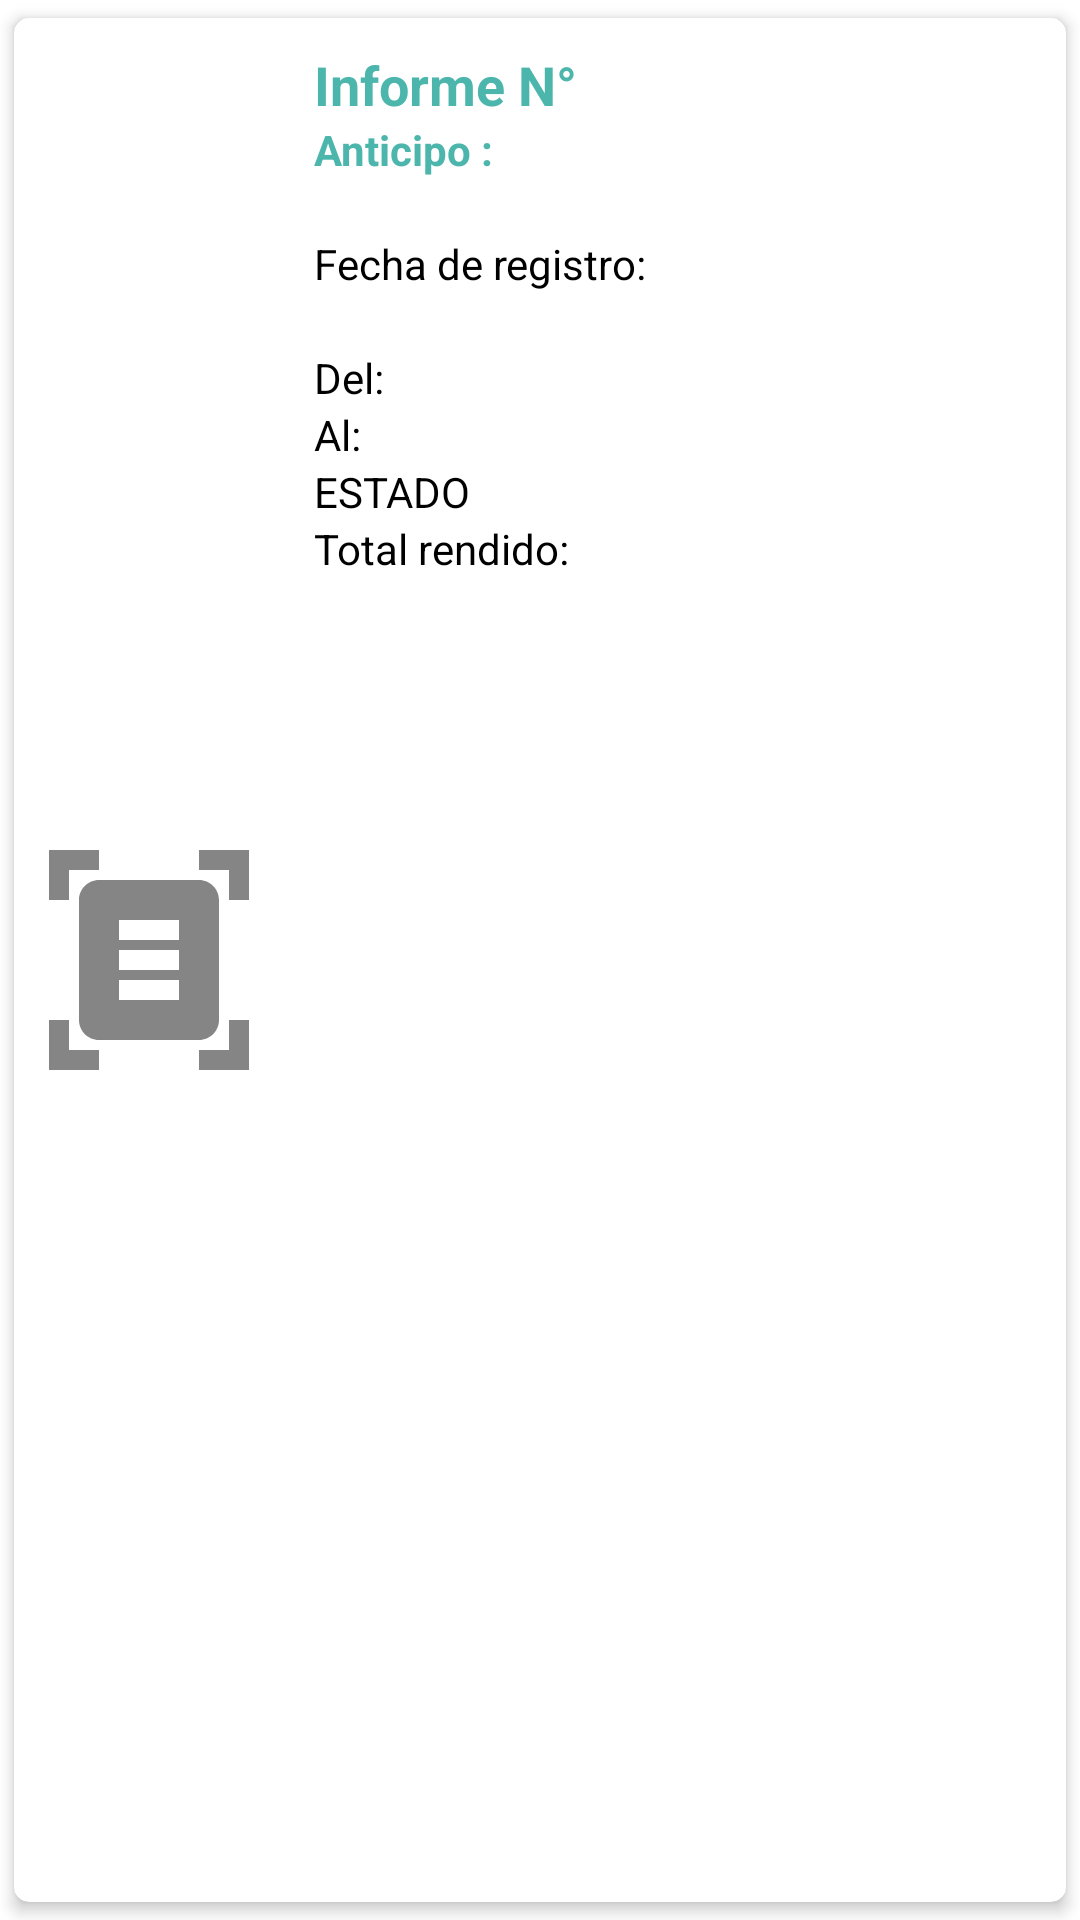

Where to tap for icons on this 1080 x 1920 app screen, as [x,y]:
comprobantes: [149,960]
